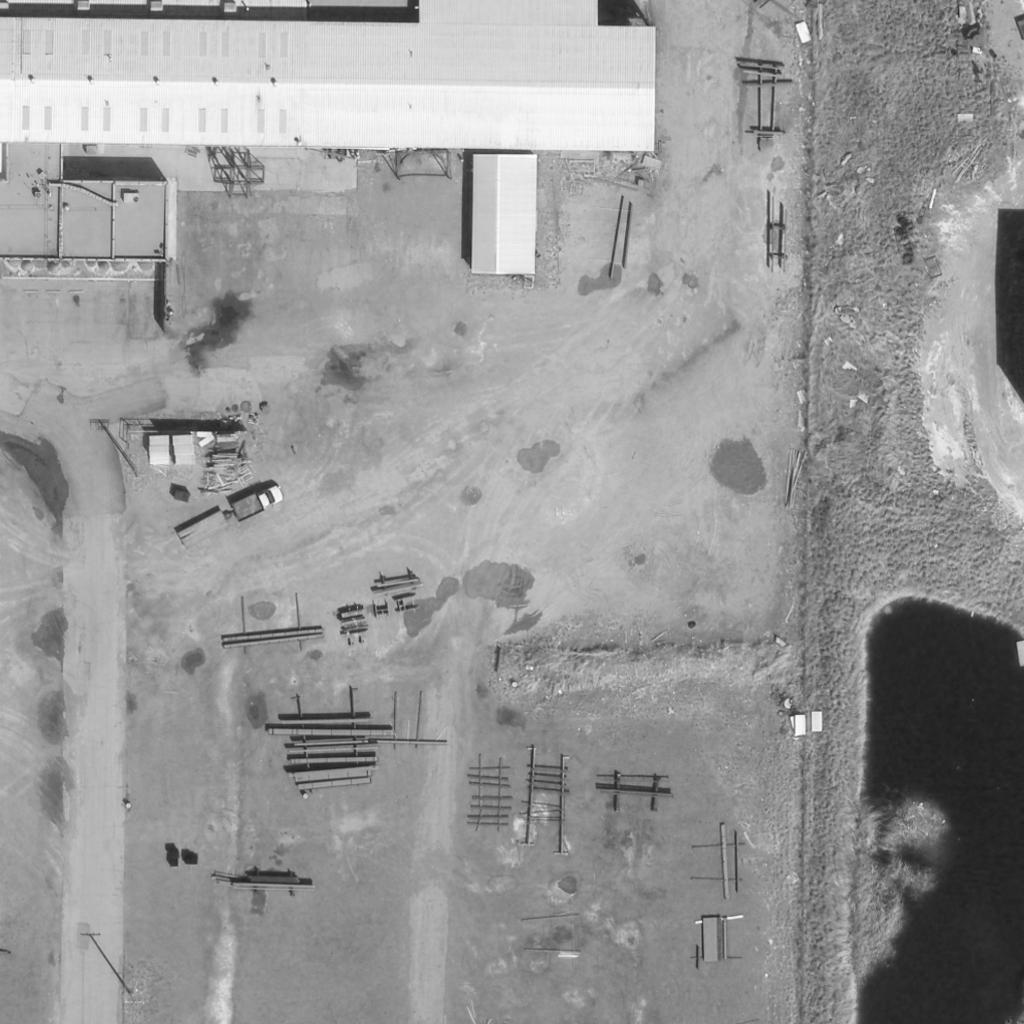vehicle: (229, 483, 285, 523)
